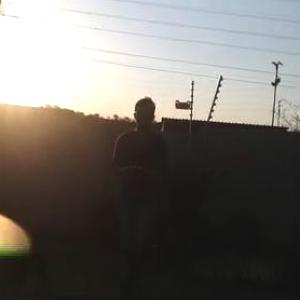follow: (107, 93, 173, 299)
